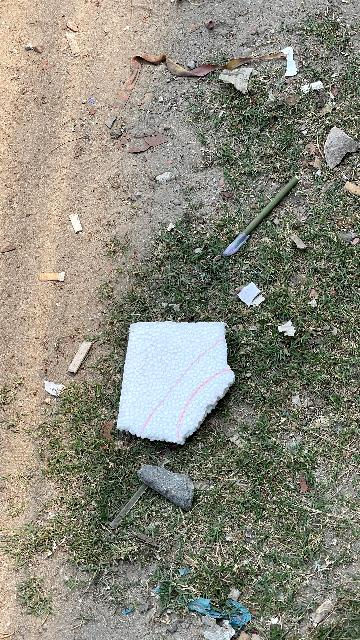cocksheet: (98, 292, 252, 468)
